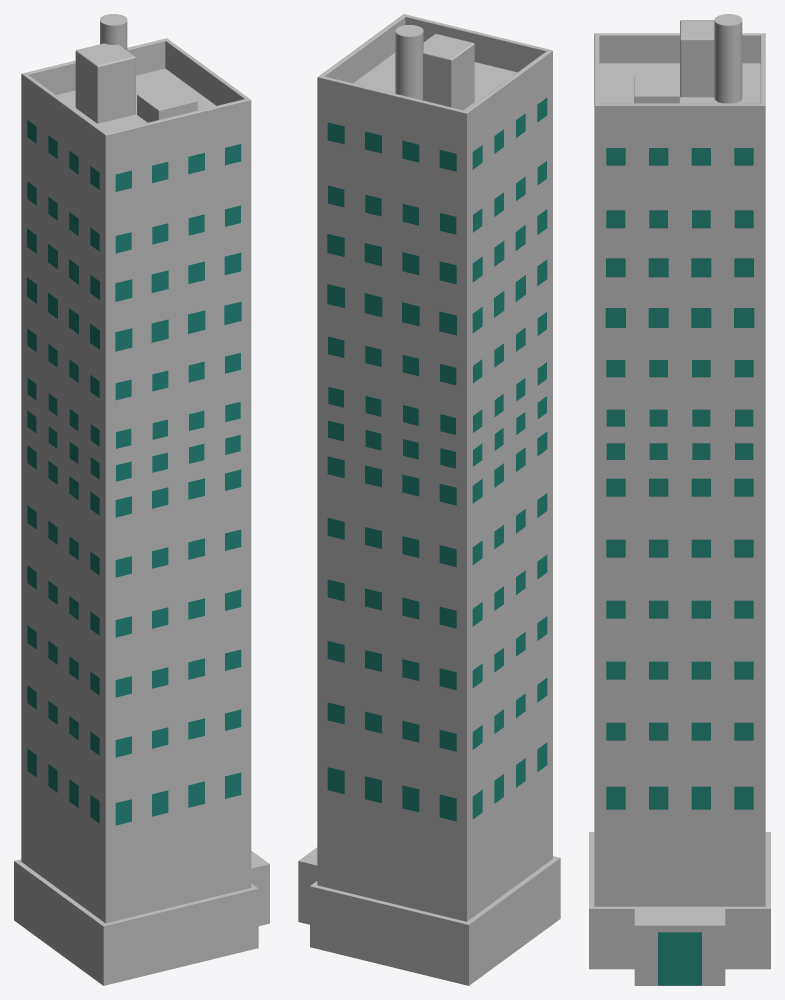
File: buil4.fbx
3 views of the same model, side by side, from view 1: azimuth 30°, elevation 25°; view 2: azimuth 150°, elevation 25°; view 3: azimuth 270°, elevation 25° (orthographic). The views are drawn at different scales.
Visible parts, largest first — view 1: 平面.006; view 2: 平面.006; view 3: 平面.006.
Boxes of the visible parts, <box> form: 平面.006: <box>14,14,269,985</box>; 平面.006: <box>298,14,560,985</box>; 平面.006: <box>589,14,770,985</box>.
Bounding box in the file's own units: 243 × 1105 × 200.
